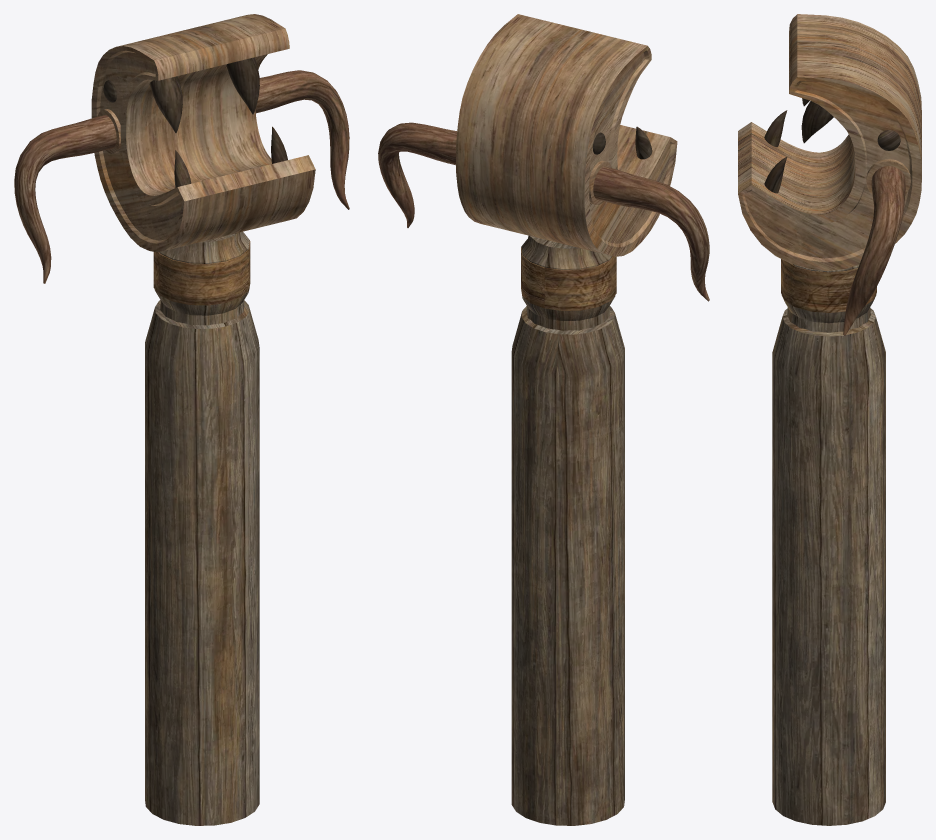
The model's file is val_totem_a.glb.
3 renders of one model, left to right at view 1: azimuth 30°, elevation 25°; view 2: azimuth 150°, elevation 25°; view 3: azimuth 270°, elevation 25°, orthographic.
Visible parts, largest first — view 1: KB3D_VAL_Totem_A_Main; view 2: KB3D_VAL_Totem_A_Main; view 3: KB3D_VAL_Totem_A_Main.
Boxes of the visible parts, left/top/right/bottom form: KB3D_VAL_Totem_A_Main: left=14, top=14, right=349, bottom=825; KB3D_VAL_Totem_A_Main: left=378, top=14, right=709, bottom=825; KB3D_VAL_Totem_A_Main: left=738, top=14, right=921, bottom=825.
Size of the model in its own units: 1.64 by 3.67 by 0.8085.
5 materials, 5 textured.
